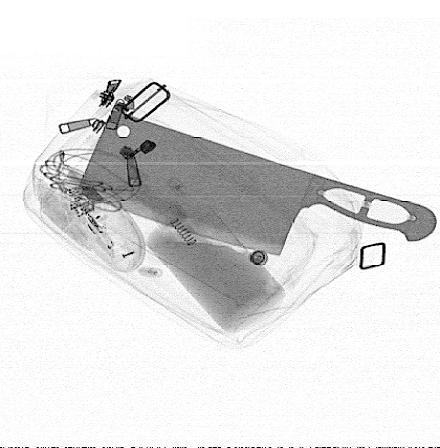Knife: (72, 110, 439, 257)
